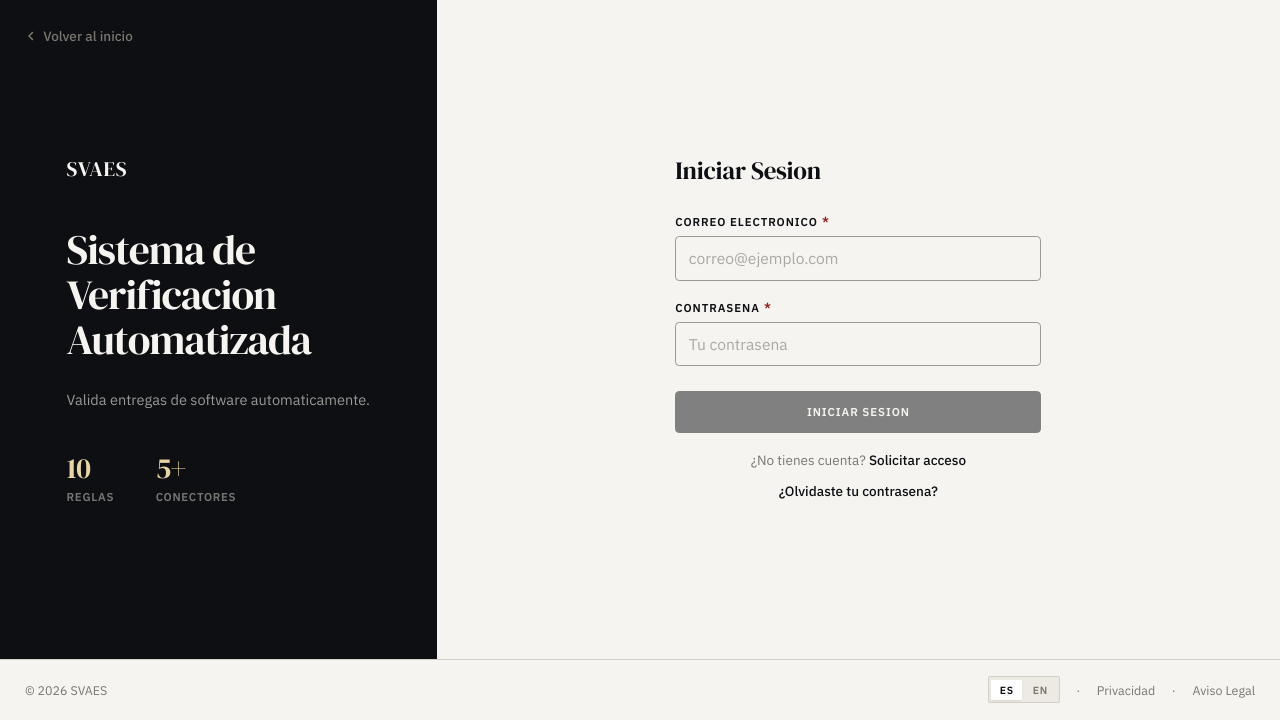
Test case: TC-ACP-CU-VAL: Validación de Login › TC-ACP-CU-04: Email vacío -> mensaje de error visible (RNF-20)
The width and height of the screenshot is (1280, 720).
Focus the field with id "email" at (858,258), box [675, 236, 1041, 280]
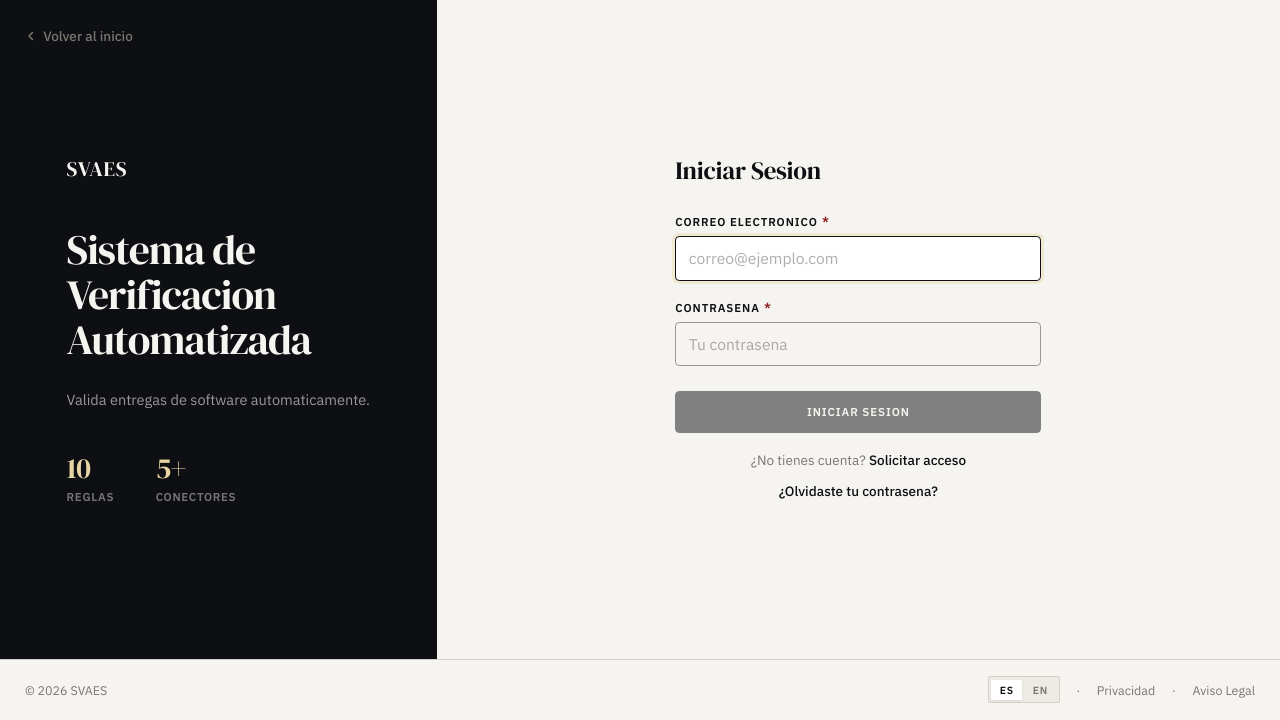
Leave the field with id "email", box [675, 236, 1041, 280]
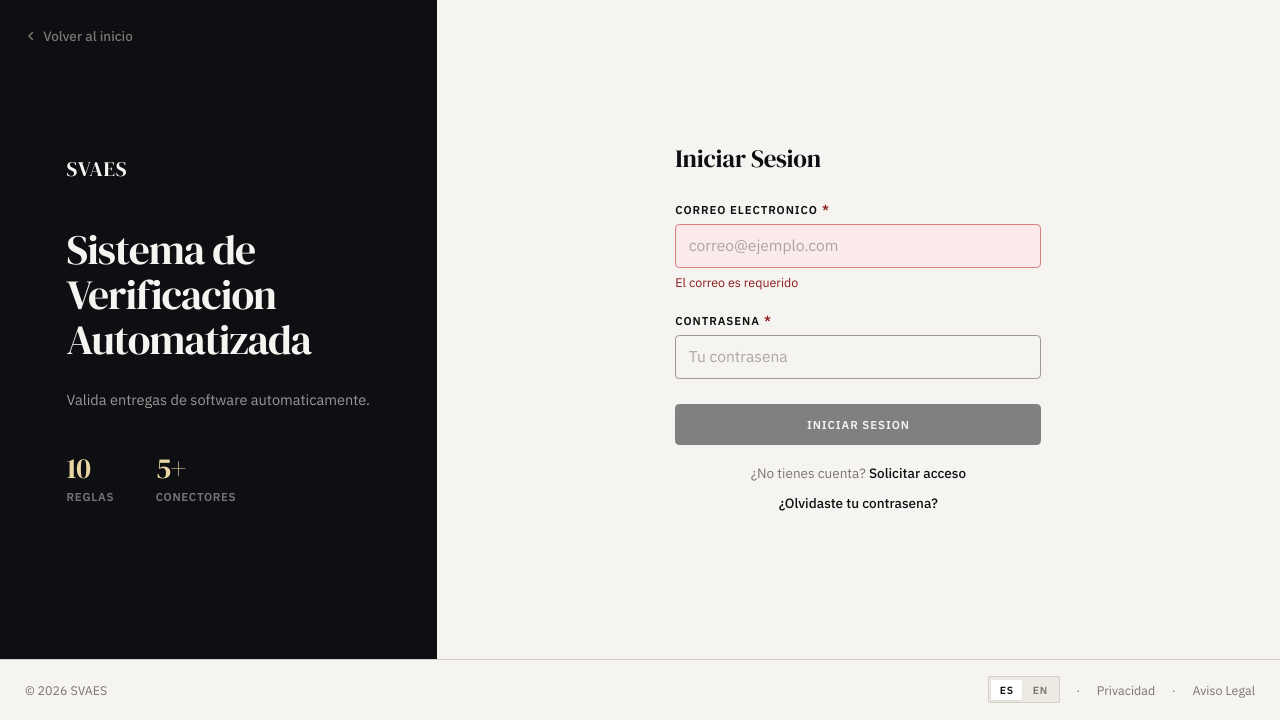
Expected: the text with class "field-error" shows "requerido", [675, 274, 798, 290]
